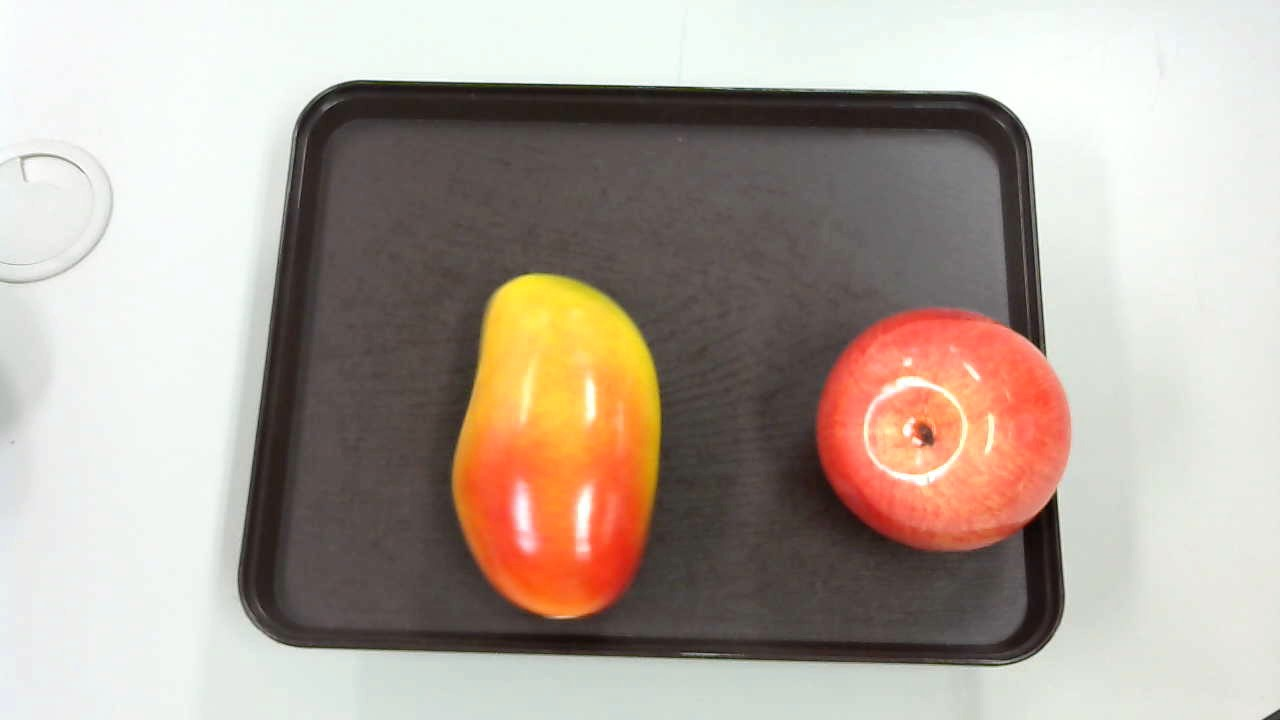red apple: (818, 305, 1074, 561)
red mango: (443, 261, 668, 622)
